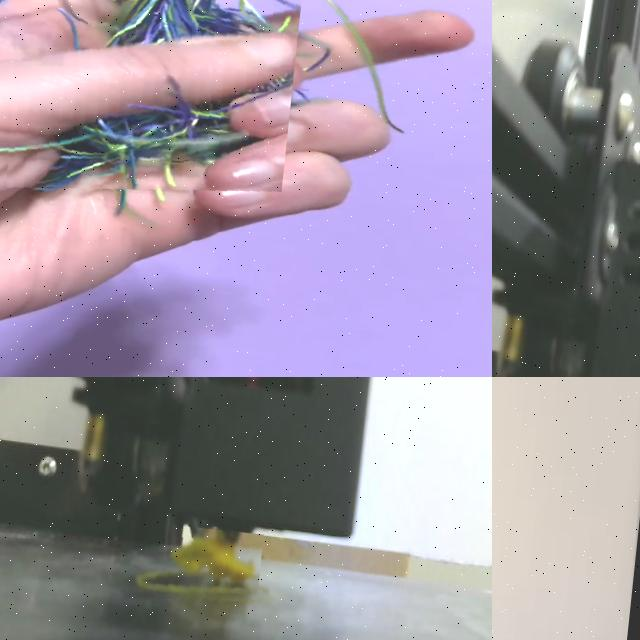spaghetti: (0, 0, 305, 215), (146, 523, 263, 609)
